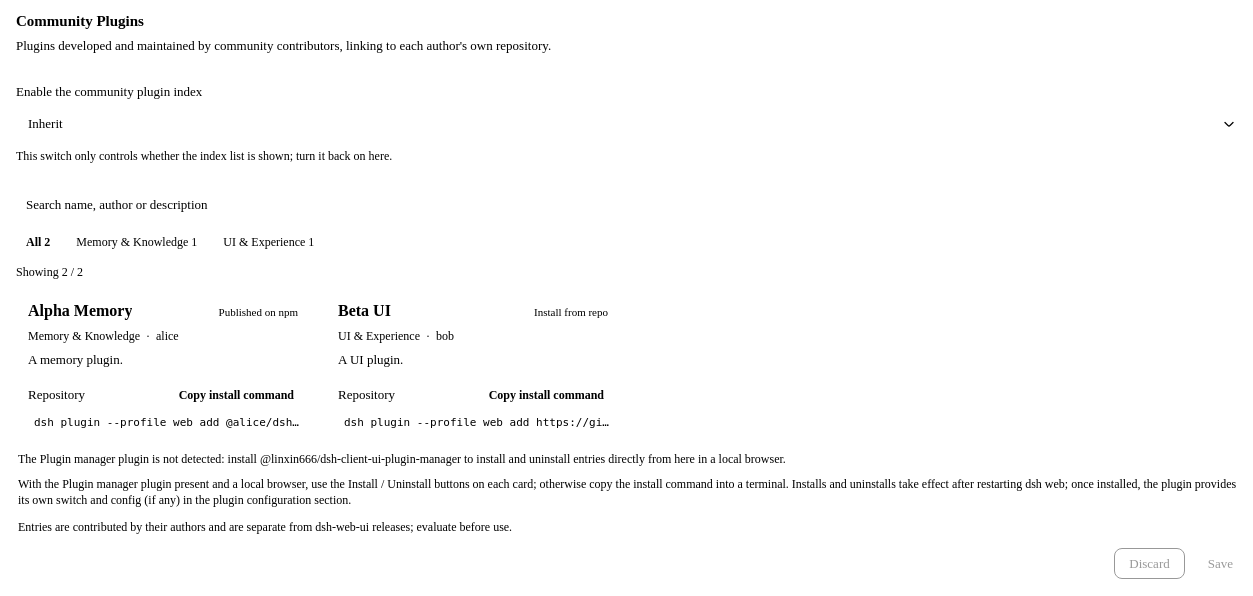
Test case: CommunityPluginsCard › filters the grid by the active category pill and toggles it off
Click the button "UI & Experience 1".
click(269, 242)  # box [213, 230, 324, 254]
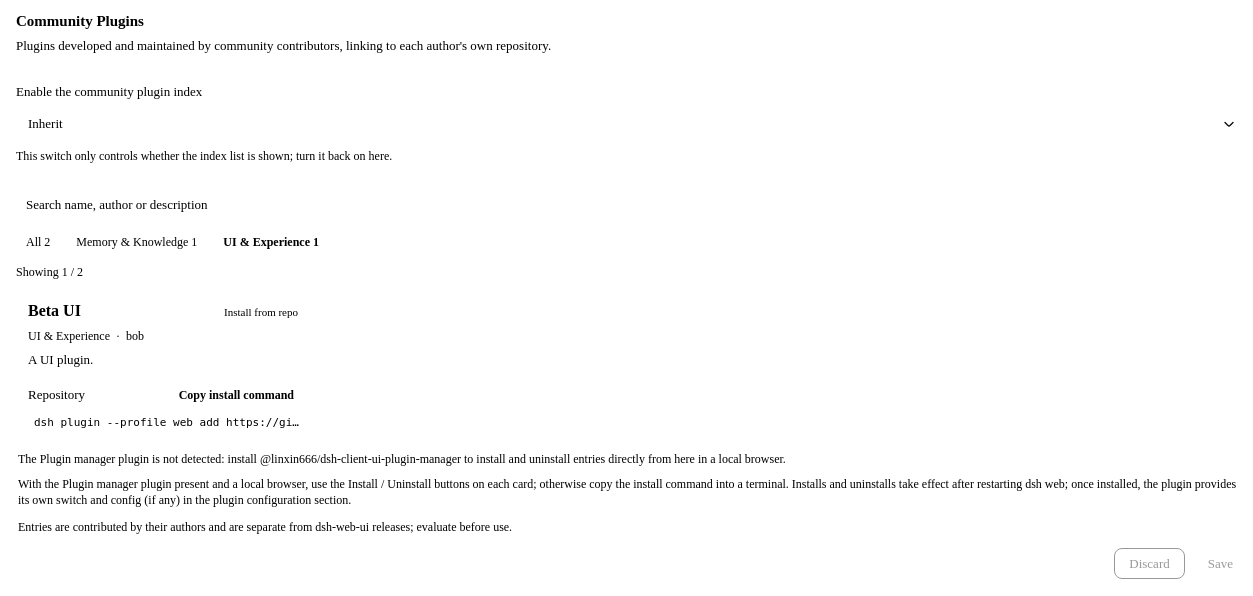
Expected: the text "Beta UI" is shown, [28, 302, 81, 320]
Expected: the text "Alpha Memory" is gone
Clicking the active pill again clears the filter.
Click the button "UI & Experience 1".
click(271, 242)  # box [213, 230, 329, 254]
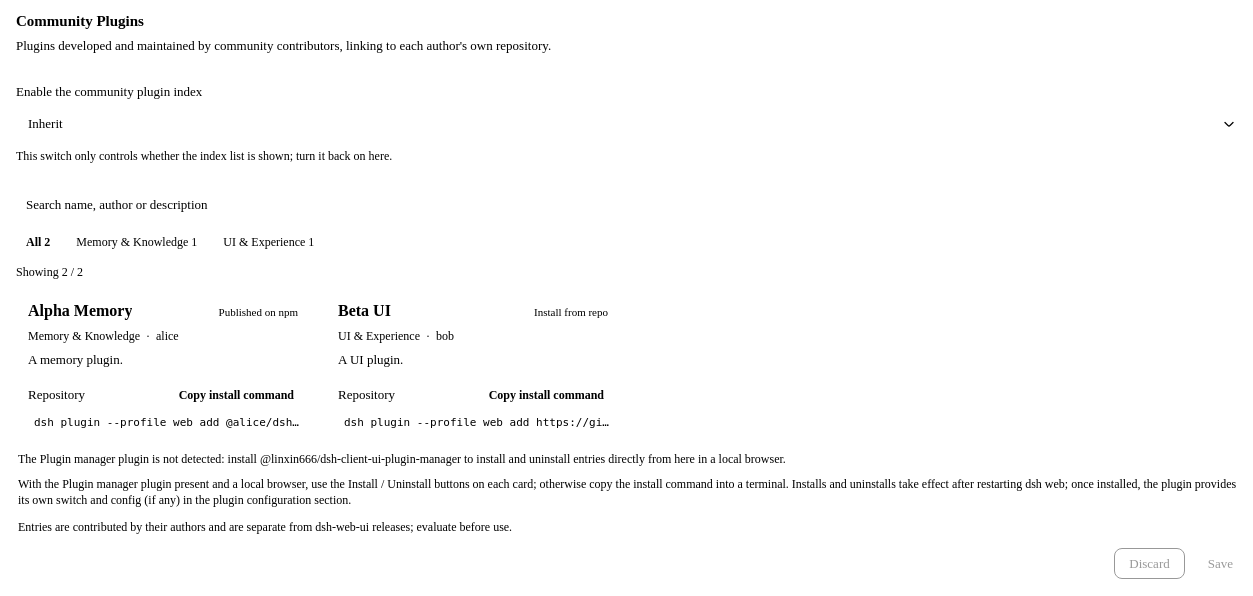
Expected: the text "Beta UI" is shown, [338, 302, 391, 320]
Expected: the text "Alpha Memory" is shown, [28, 302, 132, 320]
Expected: the text "Showing 2 / 2" is shown, [16, 265, 83, 279]
